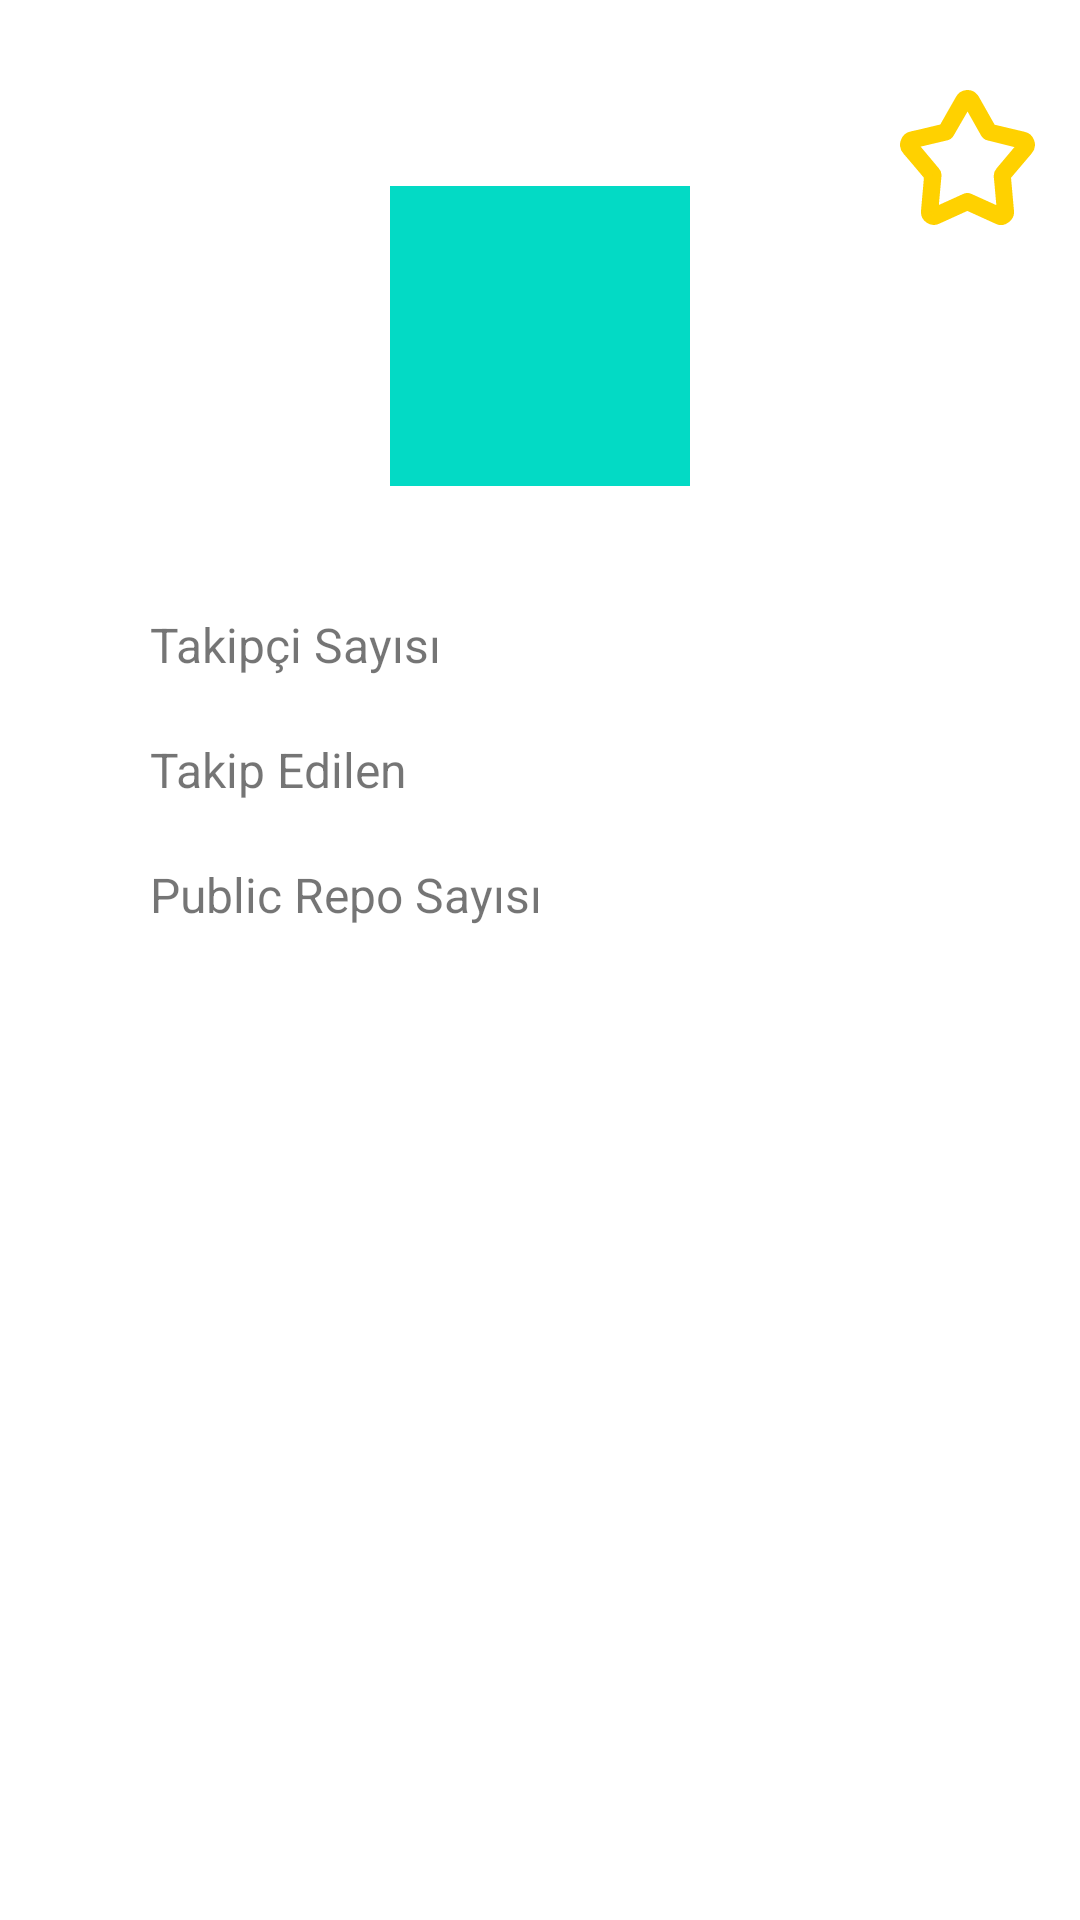

Icons on this 1080px×1920px Android screen, each with its box as (left=x1, top=y1, right=x2, bottom=y2):
favourite: (left=900, top=90, right=1035, bottom=225)
